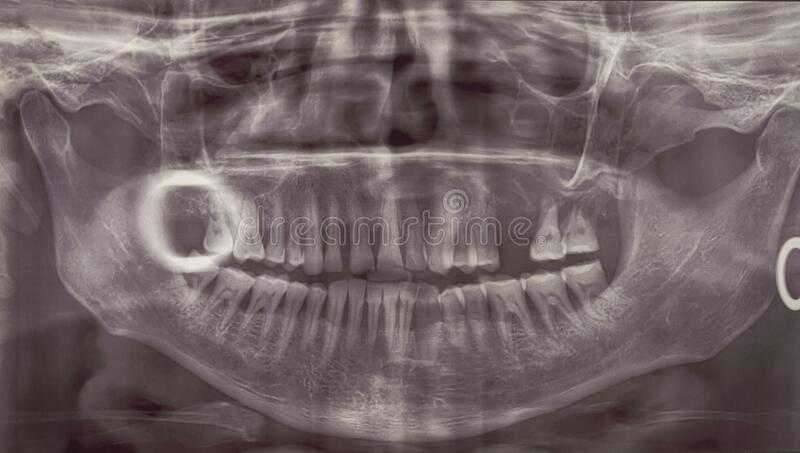canine: (422, 173, 453, 275), (419, 272, 442, 369), (328, 274, 348, 374), (301, 194, 325, 277)
incisor: (344, 175, 377, 271), (319, 187, 348, 275), (378, 185, 407, 271), (398, 276, 419, 375), (404, 183, 427, 272), (344, 273, 367, 358), (364, 272, 381, 368), (383, 274, 400, 360)
molar: (522, 268, 591, 348), (483, 276, 543, 357), (561, 259, 628, 320), (157, 248, 219, 312), (203, 269, 254, 332), (200, 178, 235, 257), (230, 190, 266, 266)
premolar: (446, 157, 479, 276), (240, 271, 291, 342), (525, 189, 568, 268), (470, 173, 502, 271), (563, 178, 602, 251), (460, 281, 494, 358), (275, 277, 305, 357), (439, 281, 469, 358), (285, 172, 308, 272), (262, 176, 284, 265), (304, 281, 328, 355)
